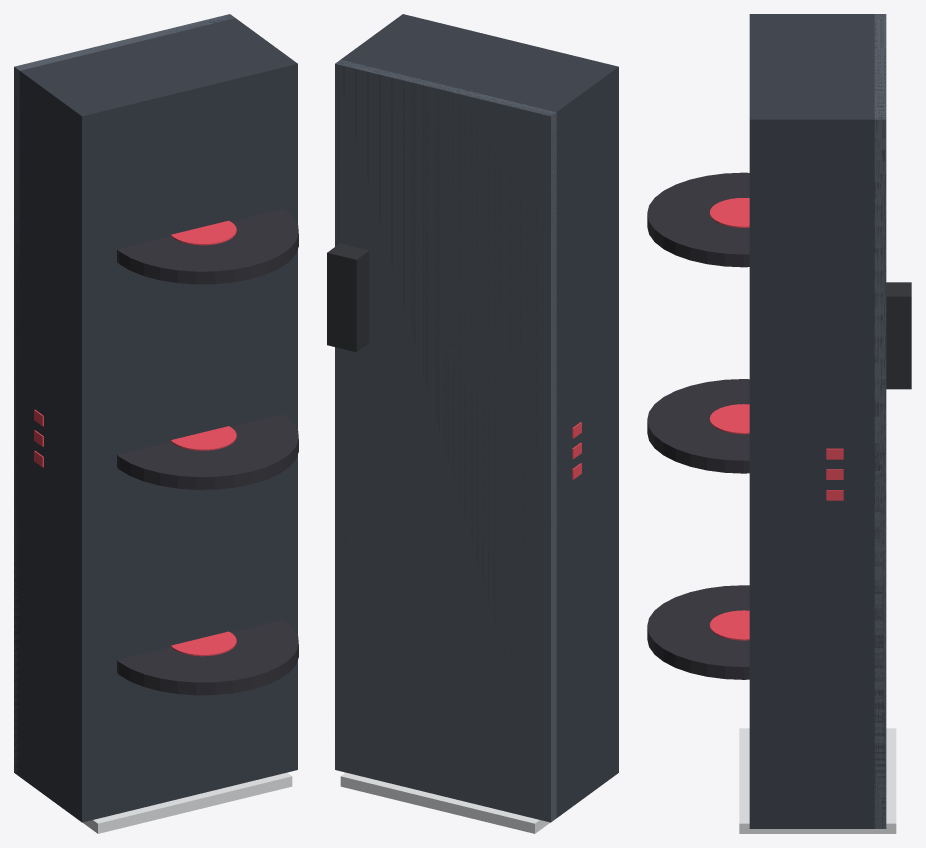
Rendered from gpu_rx7800xt.glb.
3 views of the same model, side by side, from view 1: azimuth 30°, elevation 25°; view 2: azimuth 150°, elevation 25°; view 3: azimuth 270°, elevation 25° (orthographic).
Parts seen in each view (by area): view 1: RX7800_Shroud, RX7800_Fan_0, RX7800_Fan_1, RX7800_Fan_2, RX7800_Backplate, RX7800_Bracket, RX7800_Hub_0, RX7800_Hub_1, RX7800_Hub_2; view 2: RX7800_Backplate, RX7800_Shroud, RX7800_PowerDual8Pin, RX7800_Bracket; view 3: RX7800_Shroud, RX7800_Backplate, RX7800_Fan_0, RX7800_Fan_2, RX7800_Fan_1, RX7800_Bracket, RX7800_PowerDual8Pin, RX7800_Hub_0, RX7800_Hub_1, RX7800_Hub_2.
Part boxes in pixels (<box>): RX7800_Shroud: <box>14,14,297,822</box>; RX7800_Fan_0: <box>117,619,298,695</box>; RX7800_Fan_1: <box>117,414,298,489</box>; RX7800_Fan_2: <box>117,208,298,284</box>; RX7800_Backplate: <box>14,14,235,774</box>; RX7800_Bracket: <box>82,772,292,833</box>; RX7800_Hub_0: <box>171,631,236,656</box>; RX7800_Hub_1: <box>171,426,236,450</box>; RX7800_Hub_2: <box>171,220,236,245</box>; RX7800_Backplate: <box>335,59,556,822</box>; RX7800_Shroud: <box>335,14,618,817</box>; RX7800_PowerDual8Pin: <box>327,243,369,352</box>; RX7800_Bracket: <box>340,772,550,833</box>; RX7800_Shroud: <box>749,14,886,828</box>; RX7800_Backplate: <box>874,14,886,828</box>; RX7800_Fan_0: <box>647,585,749,679</box>; RX7800_Fan_2: <box>647,172,749,267</box>; RX7800_Fan_1: <box>647,379,749,473</box>; RX7800_Bracket: <box>739,728,896,833</box>; RX7800_PowerDual8Pin: <box>886,282,911,389</box>; RX7800_Hub_0: <box>709,610,749,640</box>; RX7800_Hub_1: <box>709,404,749,434</box>; RX7800_Hub_2: <box>709,198,749,227</box>.
Bounding box in the file's own units: 0.89 × 2.79 × 0.93.
